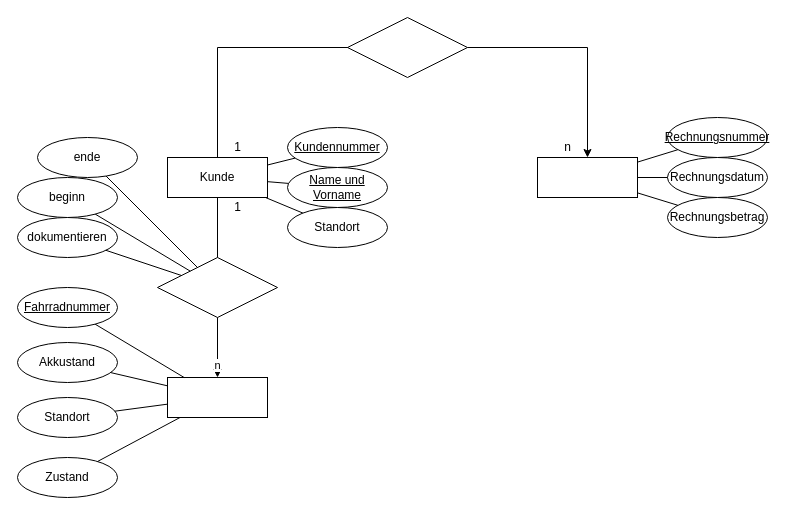
Image size: 787x515. Some labels were removed from this diagram. The shapes that lost their labels are listed below. From the top down, each one's centre as x and y in pixels, then its label:
At pixel 407 47: "bekommt".
At pixel 587 177: "Rechnung".
At pixel 217 287: "ausleihen".
At pixel 217 397: "E-Bike".
